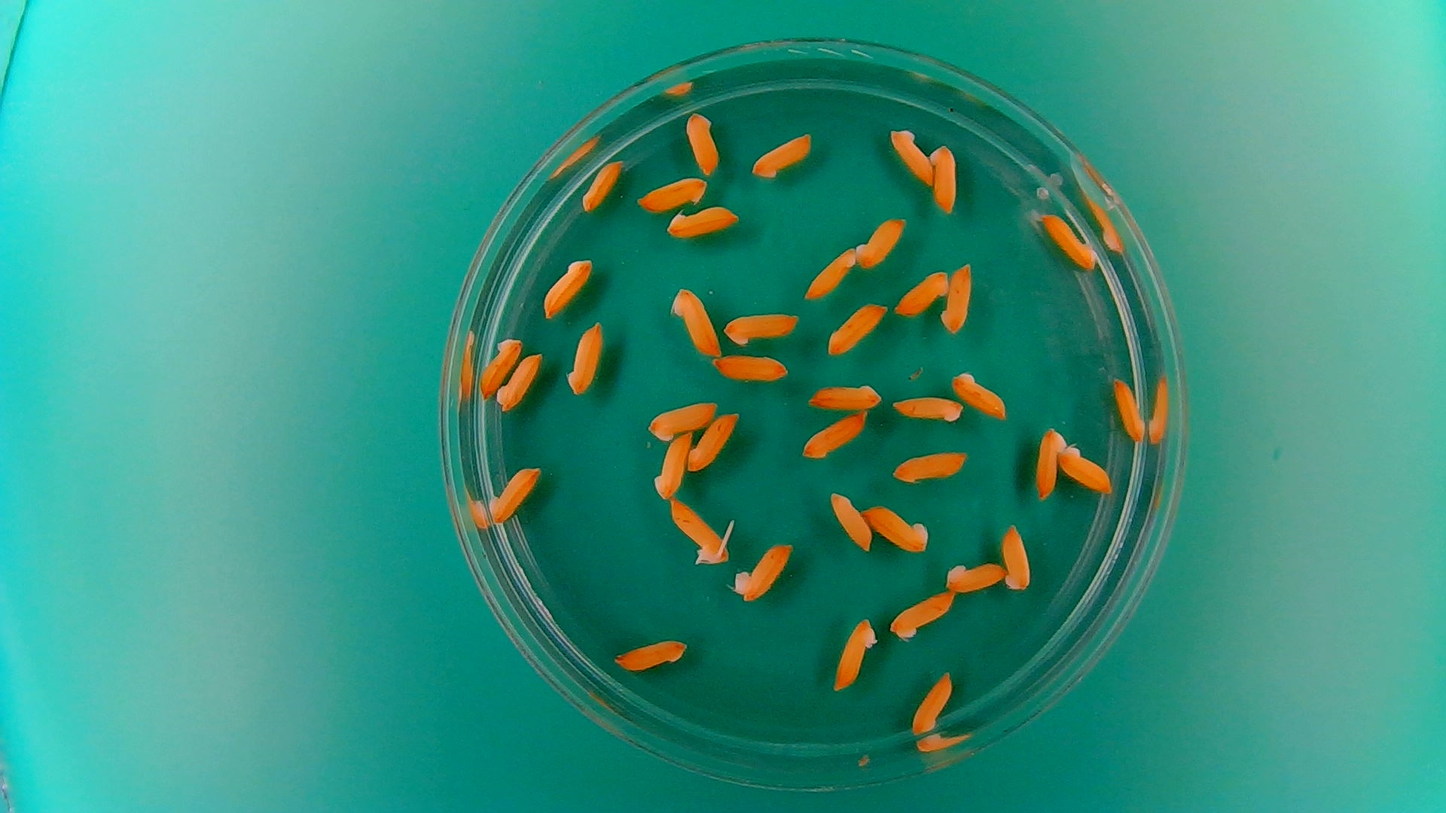no: (731, 539, 796, 604), (667, 283, 722, 358), (830, 614, 880, 693), (859, 500, 932, 554), (887, 587, 957, 641), (1038, 209, 1098, 271), (798, 409, 869, 461), (825, 300, 888, 358), (487, 461, 543, 525), (686, 409, 741, 474), (644, 397, 720, 443), (541, 255, 594, 320), (947, 367, 1011, 420), (749, 129, 814, 181), (649, 428, 693, 504), (564, 318, 605, 399), (494, 349, 545, 414), (802, 243, 859, 301), (721, 309, 802, 349), (890, 446, 971, 485), (853, 213, 908, 270), (633, 174, 711, 214), (477, 333, 523, 400), (1057, 442, 1115, 495), (887, 123, 935, 187), (910, 668, 955, 736), (611, 635, 690, 673), (826, 488, 872, 553), (892, 266, 950, 317), (664, 202, 743, 239), (1110, 375, 1149, 445), (709, 351, 791, 384), (940, 260, 975, 336), (1033, 423, 1067, 500), (684, 107, 722, 175), (579, 157, 625, 213), (999, 519, 1033, 592), (891, 392, 964, 425), (944, 558, 1008, 594), (929, 140, 959, 215)
yes: (666, 494, 732, 568)
